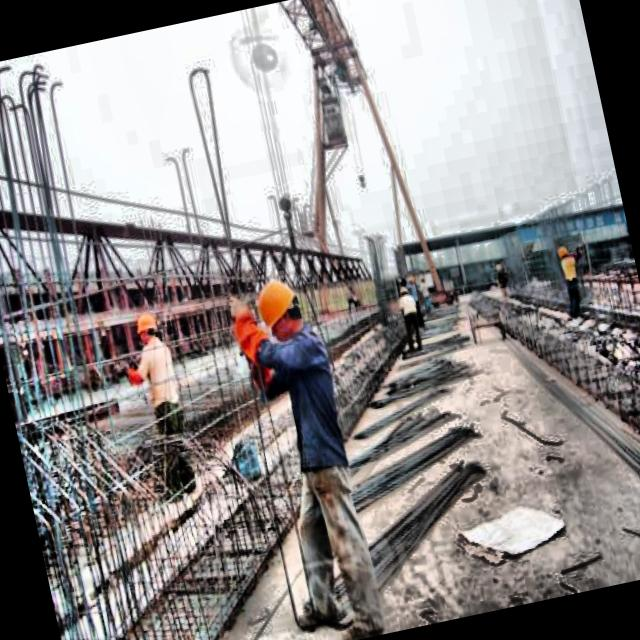helmet: (249, 272, 308, 346), (131, 307, 162, 347), (555, 241, 574, 263)
